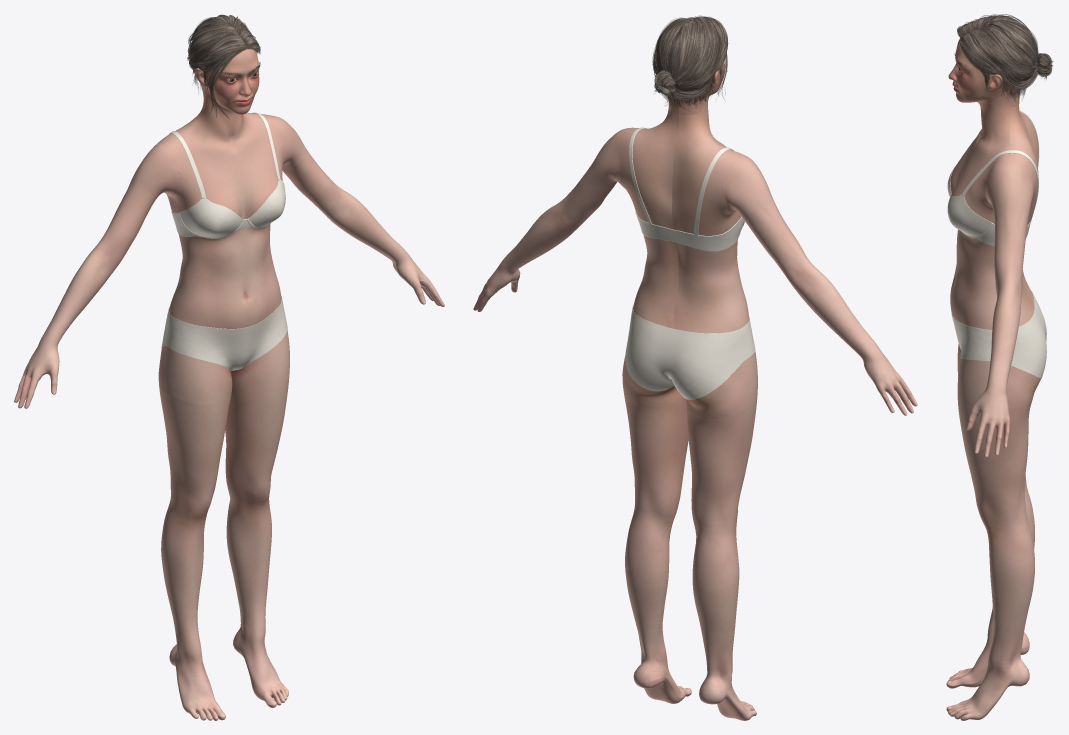
File: EM-Underwear.glb
3 views of the same model, side by side, from view 1: azimuth 30°, elevation 25°; view 2: azimuth 150°, elevation 25°; view 3: azimuth 270°, elevation 25° (orthographic). The views are drawn at different scales.
Visible parts, largest first — view 1: Face.001, Cloth, hair.002, BL_3, BL_1; view 2: Face.001, Cloth, hair.002, Pattern2D_6262843; view 3: Face.001, hair.002, Cloth, BL_1, Pattern_13371, Pattern2D_6262841.
Part boxes in pixels (box(x1,y1,x2,y2)): Face.001: box(14, 30, 444, 720); Cloth: box(161, 296, 287, 370); hair.002: box(187, 14, 260, 118); BL_3: box(179, 198, 243, 238); BL_1: box(249, 179, 285, 227); Face.001: box(473, 63, 917, 720); Cloth: box(625, 305, 755, 399); hair.002: box(652, 15, 728, 111); Pattern2D_6262843: box(676, 217, 742, 251); Face.001: box(946, 24, 1040, 720); hair.002: box(957, 14, 1053, 102); Cloth: box(951, 290, 1046, 378); BL_1: box(947, 194, 990, 236); Pattern_13371: box(961, 150, 1038, 221); Pattern2D_6262841: box(976, 222, 1030, 246).
Bounding box in the file's own units: 1.21 × 1.85 × 0.266.
Materials: 11 (10 with a texture image).
